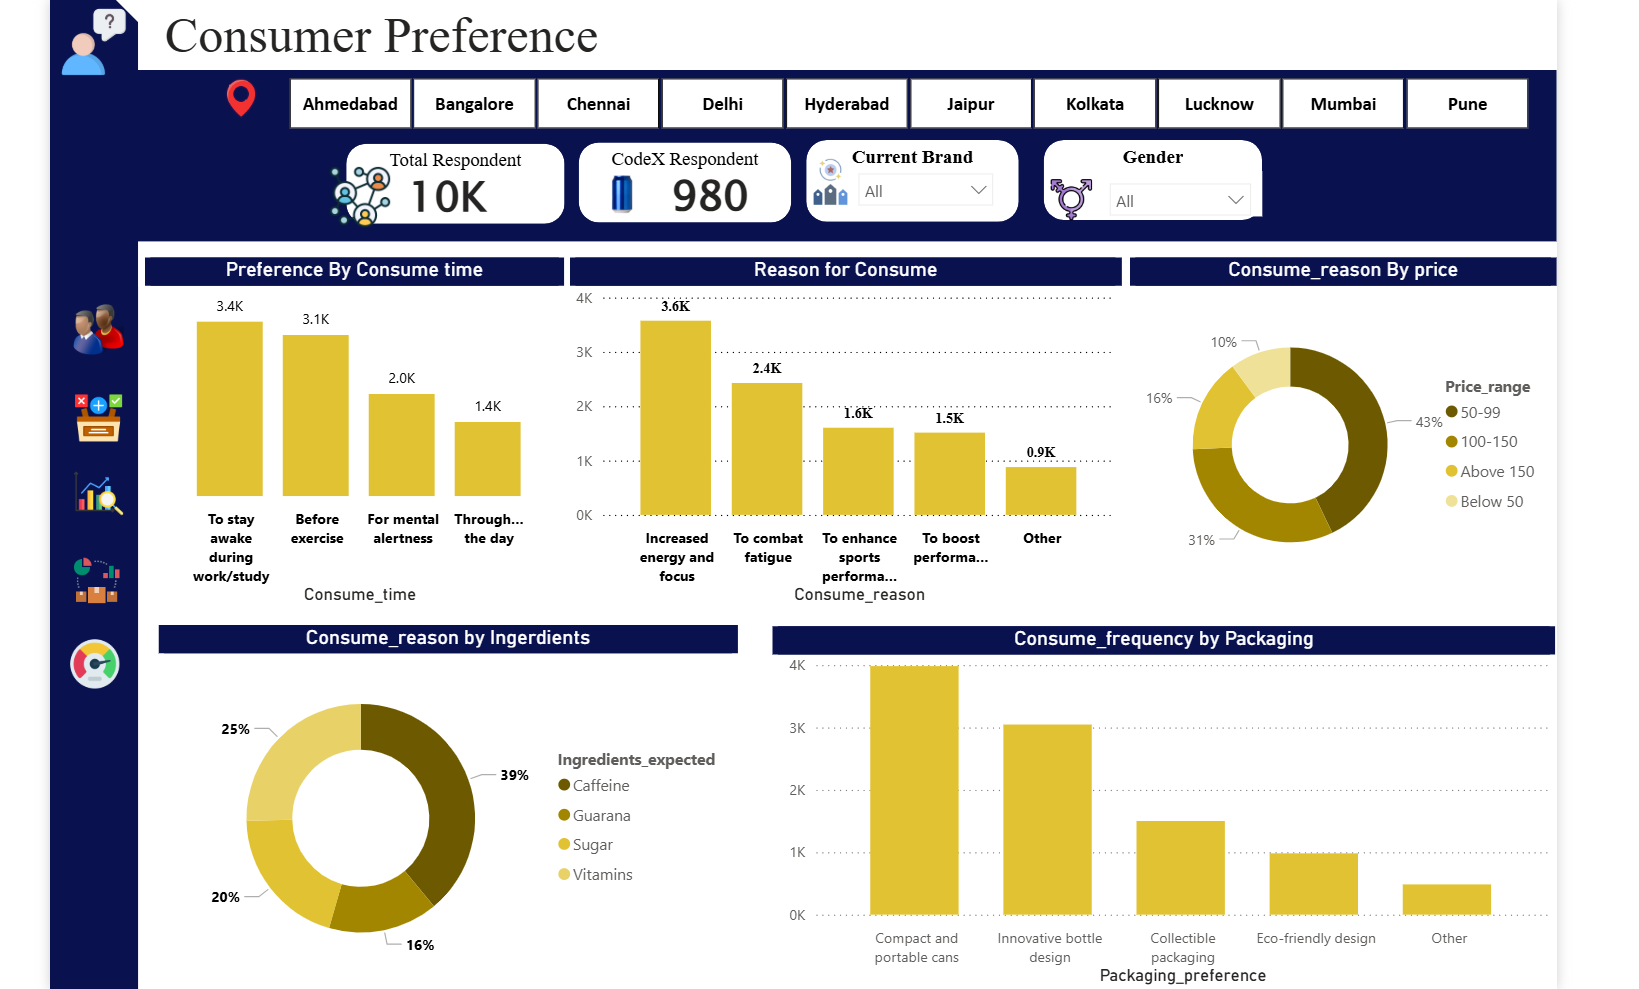

The dashboard page shown, as its layout file describes it:
{"tool":"powerbi","page":{"name":"CONSUMER Preference:","canvas":[1280,841],"ordinal":2},"visuals":[{"type":"shape","box":[67.9,59.6,1211.8,145.7],"z":0},{"type":"shape","box":[642.3,119.2,180.5,69.5],"z":1000},{"type":"textbox","box":[92.7,0,392.4,59.6],"z":2000},{"type":"shape","box":[0,0,75,841.7],"z":3000},{"type":"shape","box":[448.6,120.9,180.5,67.9],"z":4000},{"type":"card","fields":{"Values":["fact_survey_responses.codex respondent"]},"box":[509.9,137.4,102.6,56.3],"z":5000},{"type":"columnChart","title":"Reason for Consume","fields":{"Category":["fact_survey_responses.Consume_reason"],"Y":["CountNonNull(dim_repondents.Respondent_ID)"]},"box":[442,218.5,468.5,299.6],"z":6000},{"type":"shape","box":[251.6,122.5,185.4,67.9],"z":7000},{"type":"card","fields":{"Values":["measure.Total Respondent"]},"box":[263.2,140.7,149,49.7],"z":8000},{"type":"slicer","fields":{"Values":["dim_cities.City"]},"box":[177.1,59.6,1102.6,56.3],"z":9000},{"type":"columnChart","title":" Preference By Consume time","fields":{"Category":["fact_survey_responses.Consume_time"],"Y":["CountNonNull(dim_repondents.Respondent_ID)"]},"box":[81.1,218.5,355.9,299.6],"z":10000},{"type":"slicer","fields":{"Values":["fact_survey_responses.Current_brands"]},"box":[676.7,136.7,135,46.7],"z":11000},{"type":"shape","box":[844.3,119.2,185.4,67.9],"z":12000},{"type":"slicer","fields":{"Values":["dim_repondents.Gender"]},"box":[890,145,140,38.3],"z":13000},{"type":"image","box":[845,146.7,45,46.7],"z":14000},{"type":"image","box":[129.1,59.6,66.2,48],"z":15000},{"type":"image","box":[195.4,137.4,135.8,61.3],"z":16000},{"type":"image","box":[629.1,129.1,69.5,49.7],"z":17000},{"type":"image","box":[448.6,140.7,72.8,46.4],"z":18000},{"type":"donutChart","title":"Consume_reason By price","fields":{"Category":["fact_survey_responses.Price_range"],"Y":["CountNonNull(dim_repondents.Respondent_ID)"]},"box":[917.2,218.5,362.6,299.6],"z":19000},{"type":"donutChart","title":"Consume_reason by Ingerdients","fields":{"Y":["CountNonNull(dim_repondents.Respondent_ID)"],"Series":["fact_survey_responses.Ingredients_expected"]},"box":[92.7,531.4,491.7,309.6],"z":20000},{"type":"columnChart","title":"Consume_frequency by Packaging","fields":{"Y":["CountNonNull(dim_repondents.Respondent_ID)"],"Category":["fact_survey_responses.Packaging_preference"]},"box":[613.3,531.7,665,310],"z":21000},{"type":"image","box":[15,330,53.3,50],"z":22000},{"type":"image","box":[0,0,75,71.7],"z":23000},{"type":"image","box":[15,250,53.3,60],"z":24000},{"type":"image","box":[15,391.7,53.3,55],"z":25000},{"type":"image","box":[15,468.3,50,50],"z":26000},{"type":"image","box":[11.7,531.7,53.3,63.3],"z":27000}]}

Visuals, with their boxes on the page's 1280x841 design canvas (x1, y1, x2, y2). These are canvas units, not pixel positions in the 1639x989 screenshot, which may show the page scaled, cropped or inside an application window:
shape: locate(68, 60, 1280, 205)
shape: locate(642, 119, 823, 189)
textbox: locate(93, 0, 485, 60)
shape: locate(0, 0, 75, 842)
shape: locate(449, 121, 629, 189)
card - fact_survey_responses.codex respondent: locate(510, 137, 612, 194)
"Reason for Consume" columnChart: locate(442, 218, 910, 518)
shape: locate(252, 122, 437, 190)
card - measure.Total Respondent: locate(263, 141, 412, 190)
slicer - dim_cities.City: locate(177, 60, 1280, 116)
" Preference By Consume time" columnChart: locate(81, 218, 437, 518)
slicer - fact_survey_responses.Current_brands: locate(677, 137, 812, 183)
shape: locate(844, 119, 1030, 187)
slicer - dim_repondents.Gender: locate(890, 145, 1030, 183)
image: locate(845, 147, 890, 193)
image: locate(129, 60, 195, 108)
image: locate(195, 137, 331, 199)
image: locate(629, 129, 699, 179)
image: locate(449, 141, 521, 187)
"Consume_reason By price" donutChart: locate(917, 218, 1280, 518)
"Consume_reason by Ingerdients" donutChart: locate(93, 531, 584, 841)
"Consume_frequency by Packaging" columnChart: locate(613, 532, 1278, 842)
image: locate(15, 330, 68, 380)
image: locate(0, 0, 75, 72)
image: locate(15, 250, 68, 310)
image: locate(15, 392, 68, 447)
image: locate(15, 468, 65, 518)
image: locate(12, 532, 65, 595)
